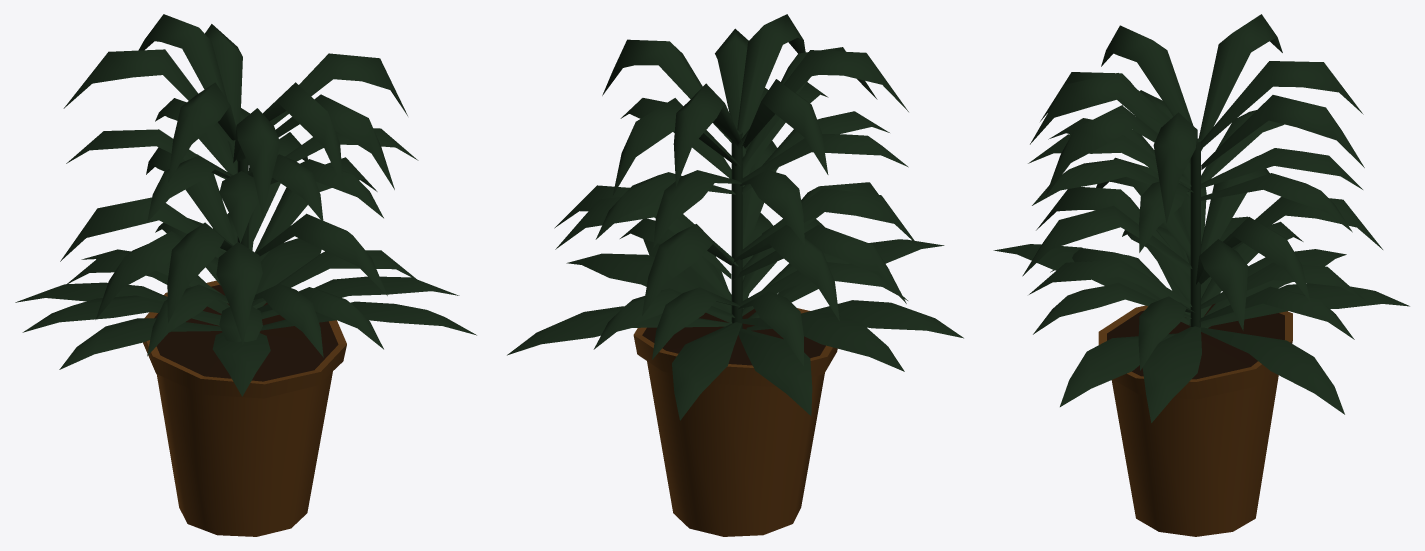
File: potplant.fbx
The picture shows the model from 3 angles, left to right: view 1: azimuth 30°, elevation 25°; view 2: azimuth 150°, elevation 25°; view 3: azimuth 270°, elevation 25°; orthographic projection. The views are drawn at different scales.
Visible parts, largest first — view 1: pCylinder1, pPlane14, pPlane16, pPlane9, pPlane13, pPlane15; view 2: pCylinder1, pPlane14, pPlane9, pPlane16, pPlane13, pPlane15; view 3: pCylinder1, pPlane14, pPlane9, pPlane16, pPlane15, pPlane13.
Boxes of the visible parts, box(x1,y1,x2,y2) form: pCylinder1: box(143, 158, 346, 536); pPlane14: box(63, 14, 407, 216); pPlane16: box(60, 132, 387, 344); pPlane9: box(15, 238, 476, 396); pPlane13: box(66, 98, 418, 242); pPlane15: box(66, 213, 418, 357); pCylinder1: box(633, 130, 837, 536); pPlane14: box(602, 14, 908, 195); pPlane9: box(507, 239, 963, 420); pPlane16: box(554, 141, 917, 321); pPlane13: box(595, 82, 908, 247); pPlane15: box(593, 213, 907, 365); pCylinder1: box(1098, 138, 1292, 536); pPlane14: box(1030, 14, 1364, 223); pPlane9: box(993, 216, 1409, 422); pPlane16: box(1022, 156, 1382, 330); pPlane15: box(1029, 221, 1364, 370); pPlane13: box(1028, 90, 1362, 252).
Bounding box in the file's own units: 1.08 × 1.19 × 0.9974.
